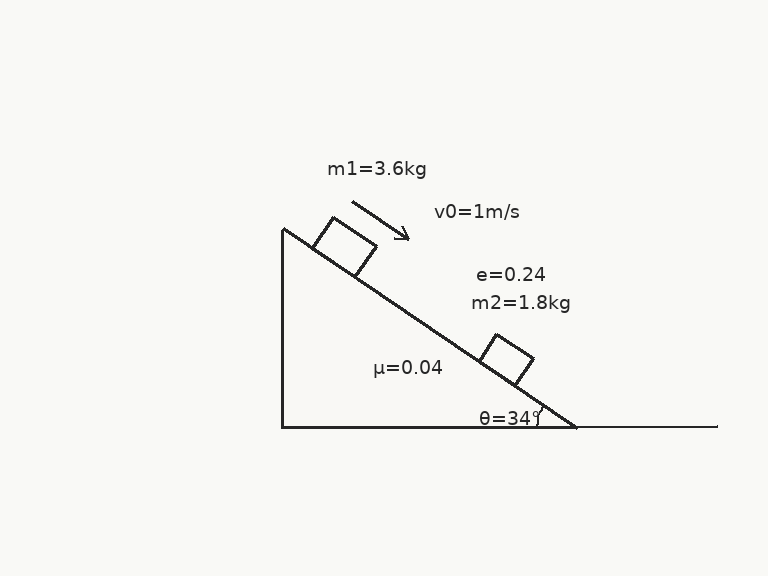block: (311, 216, 378, 279), (476, 332, 535, 387)
ramp: (281, 226, 579, 429)
